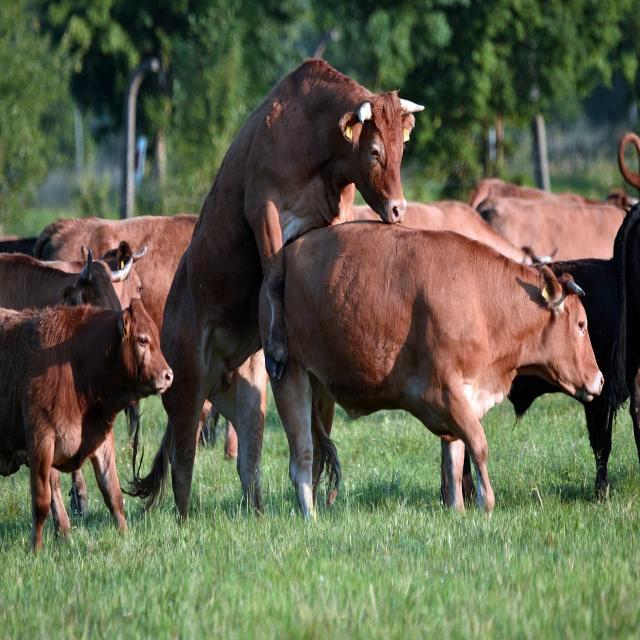cow: (134, 60, 421, 518), (272, 224, 602, 518), (0, 300, 172, 550)
